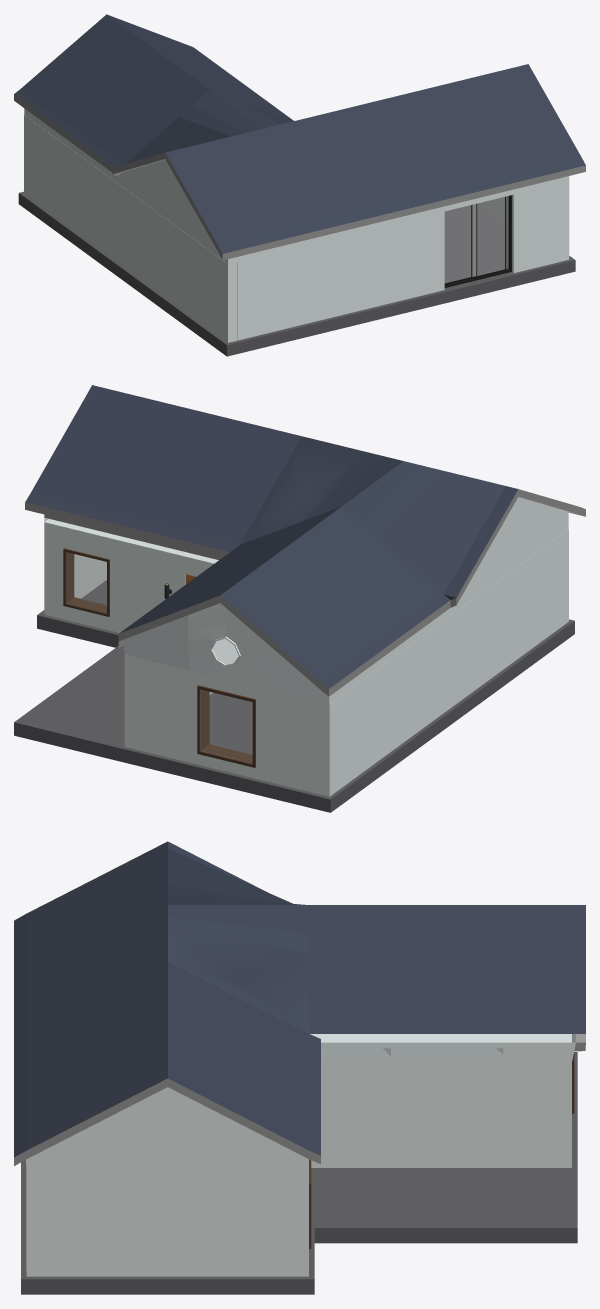
File: maison.glb
3 views of the same model, one above another, from view 1: azimuth 30°, elevation 25°; view 2: azimuth 150°, elevation 25°; view 3: azimuth 270°, elevation 25° (orthographic). The views are drawn at different scales.
Parts seen in each view (by area): view 1: Cube_8.003, Mur_Ch02_Ext_01, Mur_Ch02_Ext_02, Cube_8.002, Cube_8, Mur_Ch01_Ext_02, Fenetre_Ch01_02, Sol_Ch01, Cube.004_4; view 2: Cube_8.003, Mur_Ch02_Ext_02, Cube_8, Cube_8.002, Mur_Ch03_Ext_03, Mur_Ch01_Ext_05, Fenetre_Ch03.001, Sol_Ch03, Fenetre_Ch01_01, Mur_Ch01_Int_01, Cube_8.001; view 3: Cube_8.003, Mur_Ch01_Ext_01, Cube_8.002, Mur_Ch03_Ext_04, Cube_8, Plafond_Ch03.
Boxes of the visible parts, bbox=[...] form: Cube_8.003: bbox=[14, 14, 585, 260]; Mur_Ch02_Ext_01: bbox=[228, 211, 444, 342]; Mur_Ch02_Ext_02: bbox=[24, 115, 227, 342]; Cube_8.002: bbox=[18, 191, 575, 356]; Cube_8: bbox=[24, 108, 569, 263]; Mur_Ch01_Ext_02: bbox=[513, 181, 569, 272]; Fenetre_Ch01_02: bbox=[445, 197, 504, 282]; Sol_Ch01: bbox=[444, 203, 508, 283]; Cube.004_4: bbox=[444, 195, 511, 287]; Cube_8.003: bbox=[25, 385, 585, 696]; Mur_Ch02_Ext_02: bbox=[329, 529, 568, 796]; Cube_8: bbox=[44, 497, 568, 767]; Cube_8.002: bbox=[14, 610, 574, 812]; Mur_Ch03_Ext_03: bbox=[124, 654, 329, 796]; Mur_Ch01_Ext_05: bbox=[44, 522, 213, 632]; Fenetre_Ch03.001: bbox=[201, 690, 252, 762]; Sol_Ch03: bbox=[209, 693, 252, 754]; Fenetre_Ch01_01: bbox=[66, 552, 106, 612]; Mur_Ch01_Int_01: bbox=[74, 554, 106, 598]; Cube_8.001: bbox=[44, 519, 562, 743]; Cube_8.003: bbox=[14, 841, 585, 1165]; Mur_Ch01_Ext_01: bbox=[26, 1171, 308, 1276]; Cube_8.002: bbox=[21, 1052, 577, 1294]; Mur_Ch03_Ext_04: bbox=[311, 1062, 571, 1167]; Cube_8: bbox=[26, 1034, 575, 1248]; Plafond_Ch03: bbox=[310, 1034, 556, 1042].
Bounding box in the file's own units: 49.33 × 21.47 × 50.31.
